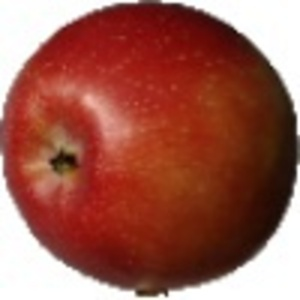maçã braeburn: (3, 1, 299, 291)
